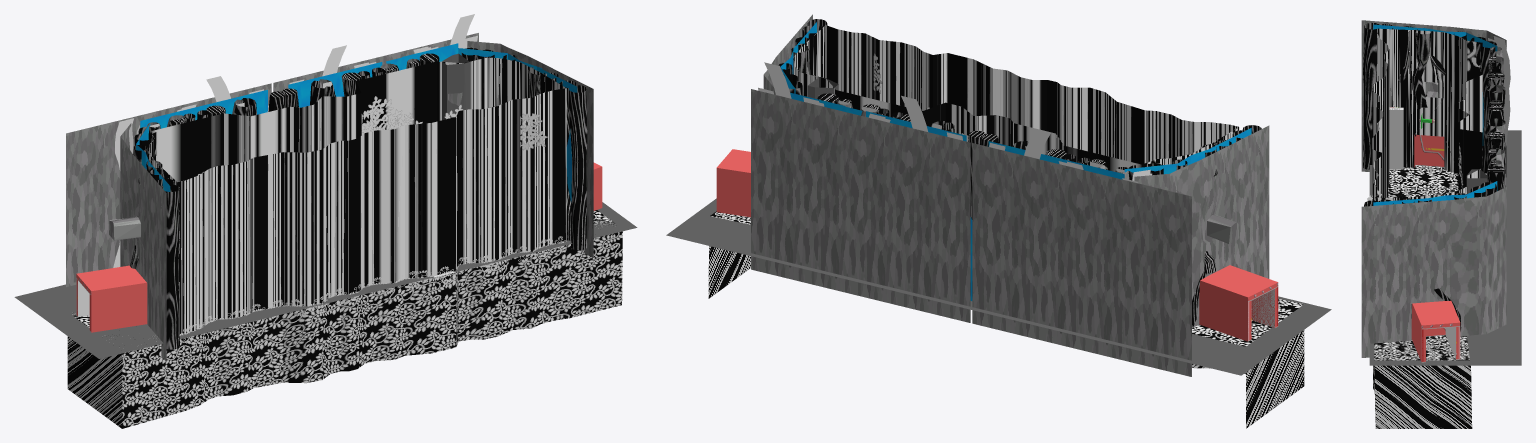
The model's file is mri_01_bake.dae.
3 views of the same model, side by side, from view 1: azimuth 30°, elevation 25°; view 2: azimuth 150°, elevation 25°; view 3: azimuth 270°, elevation 25° (orthographic). The views are drawn at different scales.
Parts seen in each view (by area): view 1: A_yuka_l1, A_yuka_r, S_oku, polySurface129, polySurface131, polySurface130, A_yuka, S_doa_l_b_part0, S_oku_03_part1, polySurface121_q048, S_oku_03_part0, A_dokan_fream (+4 smaller); view 2: S_oku, A_yuka_r, A_yuka_l1, A_yuka, S_doa_l_b_part0, polySurface129, S_doa_r_b_part0, S_oku_03_part1, A_doa_l_fream, S_oku_02_part2, polySurface131, S_oku_03_part0 (+1 smaller); view 3: S_oku, A_yuka_l1, A_yuka, polySurface131, A_yuka_r, S_doa_r_b_part0, S_oku_03_part1, A_sui, S_doa_l_a, S_oku_02_part1, A_dokan_fream, S_doa_r_b_part1.
Boxes of the visible parts, x1,y1,x2,y2 form: A_yuka_l1: [148, 106, 394, 334]; A_yuka_r: [301, 57, 566, 286]; S_oku: [66, 33, 614, 361]; polySurface129: [67, 300, 340, 428]; polySurface131: [456, 231, 622, 346]; polySurface130: [341, 273, 455, 371]; A_yuka: [14, 202, 637, 358]; S_doa_l_b_part0: [76, 265, 147, 332]; S_oku_03_part1: [136, 43, 577, 202]; polySurface121_q048: [179, 236, 567, 343]; S_oku_03_part0: [215, 57, 404, 114]; A_dokan_fream: [442, 53, 469, 120]; S_oku: [710, 14, 1303, 376]; A_yuka_r: [793, 25, 1020, 145]; A_yuka_l1: [1009, 77, 1239, 171]; A_yuka: [666, 198, 1331, 375]; S_doa_l_b_part0: [1199, 265, 1278, 341]; polySurface129: [1192, 330, 1304, 428]; S_doa_r_b_part0: [716, 149, 750, 217]; S_oku_03_part1: [780, 22, 1251, 179]; A_doa_l_fream: [1199, 265, 1278, 340]; S_oku_02_part2: [764, 62, 1051, 159]; polySurface131: [708, 246, 750, 298]; S_oku_03_part0: [842, 106, 1047, 300]; S_oku: [1361, 20, 1506, 360]; A_yuka_l1: [1372, 28, 1482, 197]; A_yuka: [1369, 130, 1521, 365]; polySurface131: [1373, 365, 1472, 428]; A_yuka_r: [1372, 108, 1482, 201]; S_doa_r_b_part0: [1411, 300, 1460, 362]; S_oku_03_part1: [1373, 24, 1497, 205]; A_sui: [1389, 107, 1403, 169]; S_doa_l_a: [1415, 134, 1444, 167]; S_oku_02_part1: [1488, 36, 1510, 147]; A_dokan_fream: [1466, 169, 1487, 193]; S_doa_r_b_part1: [1445, 327, 1455, 359].
Bounding box in the file's own units: 110 × 49.64 × 31.84.
